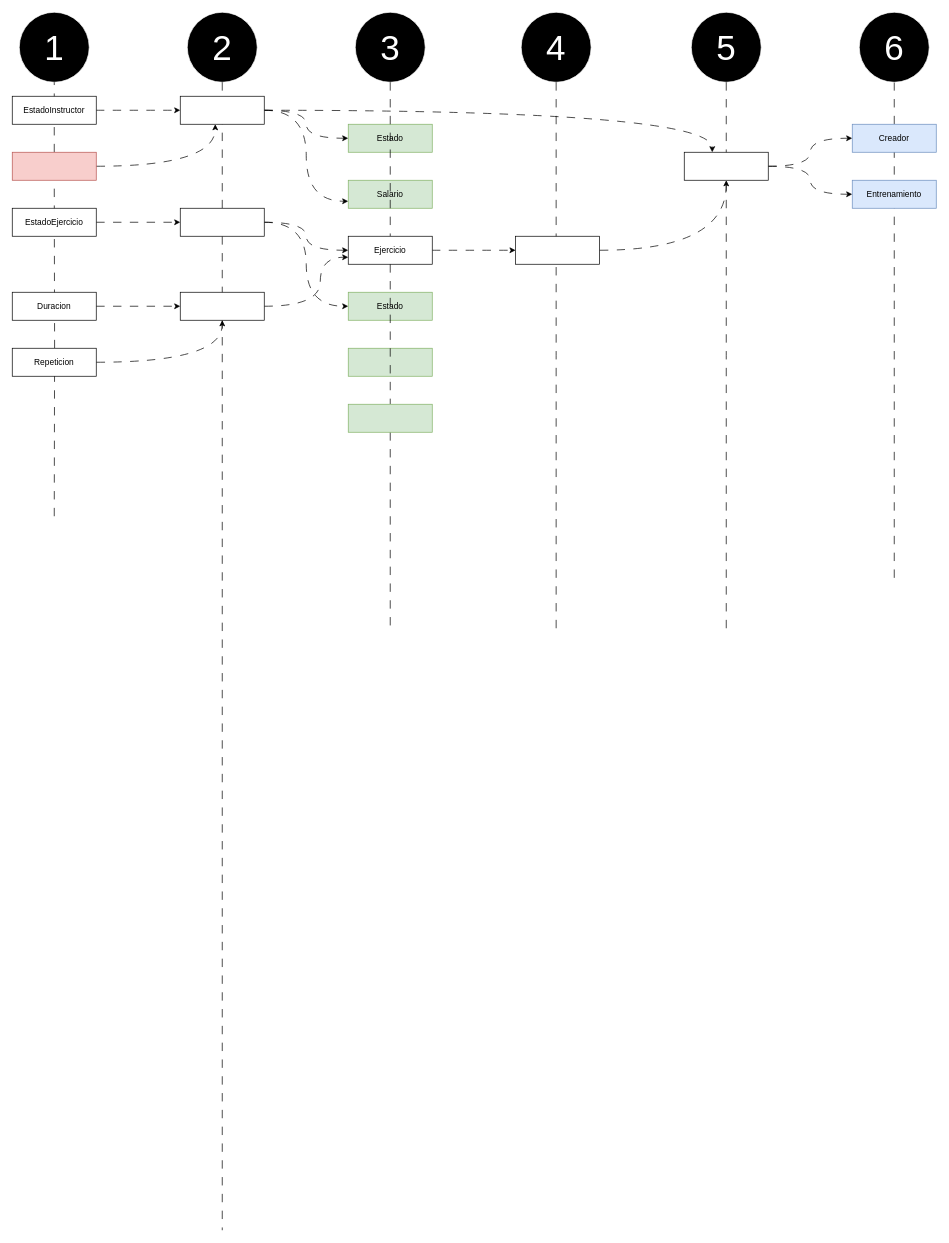
The diagram is 949 pixels wide and 1243 high, and some of its shapes have lost their labels. Here are the shapes that lost their labels. From the top down, the centre of each, then its label:
the point at 222,110: Instructor
the point at 54,166: Egreso
the point at 726,166: PlanEntrenamiento
the point at 222,222: NotaEjercicio
the point at 557,250: Rutina
the point at 222,306: Serie
the point at 390,362: Tiempo
the point at 390,418: Cantidad
